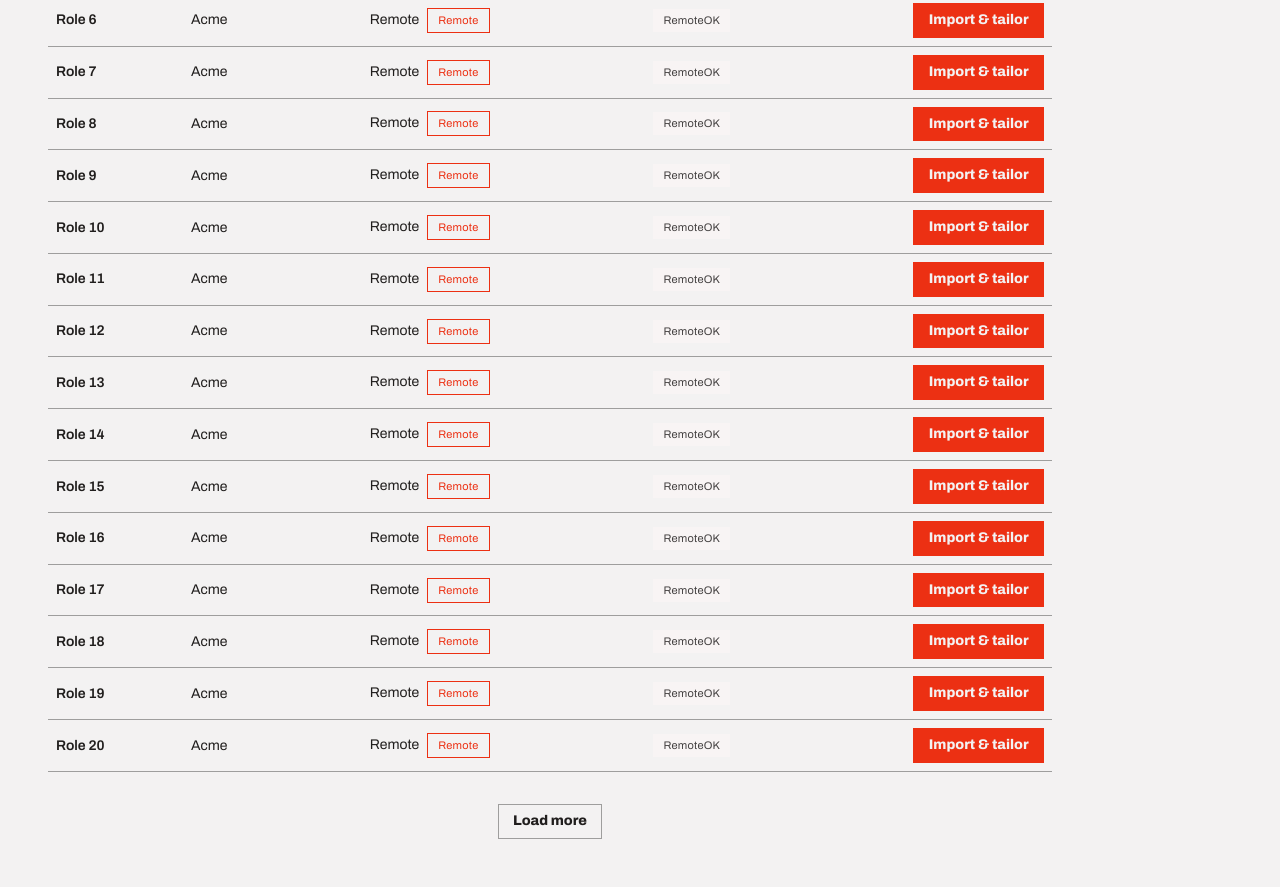
Test: JobFeedPage load more › explains the cap instead of offering a Load more that would 422
(page scrolled)
What coordinates should you click on to do the following:
click the button "Load more"
I would click on:
 (550, 821)
Its box is [498,804,602,839].
(page scrolled)
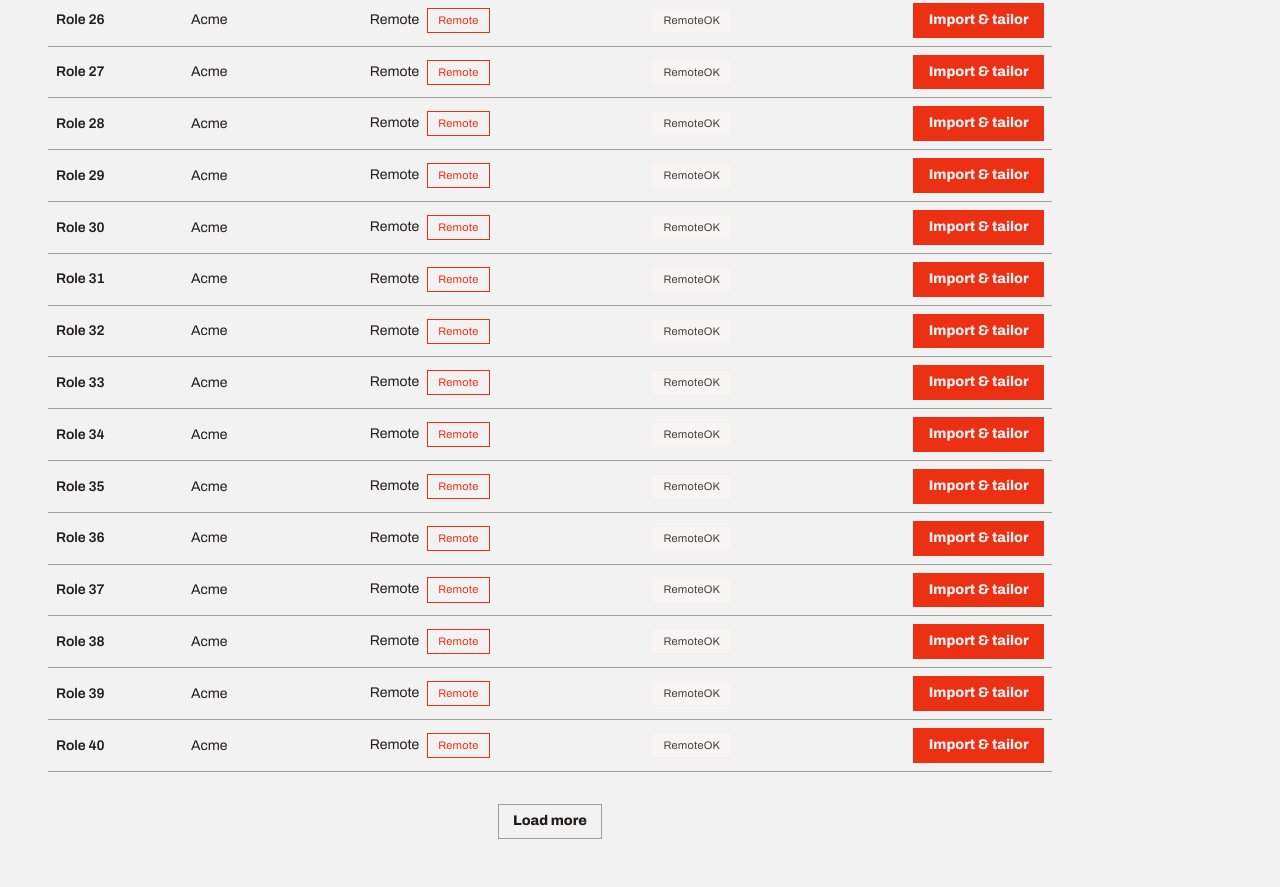
What coordinates should you click on to do the following:
click the button "Load more"
I would click on:
 (550, 821)
Its box is [498,804,602,839].
(page scrolled)
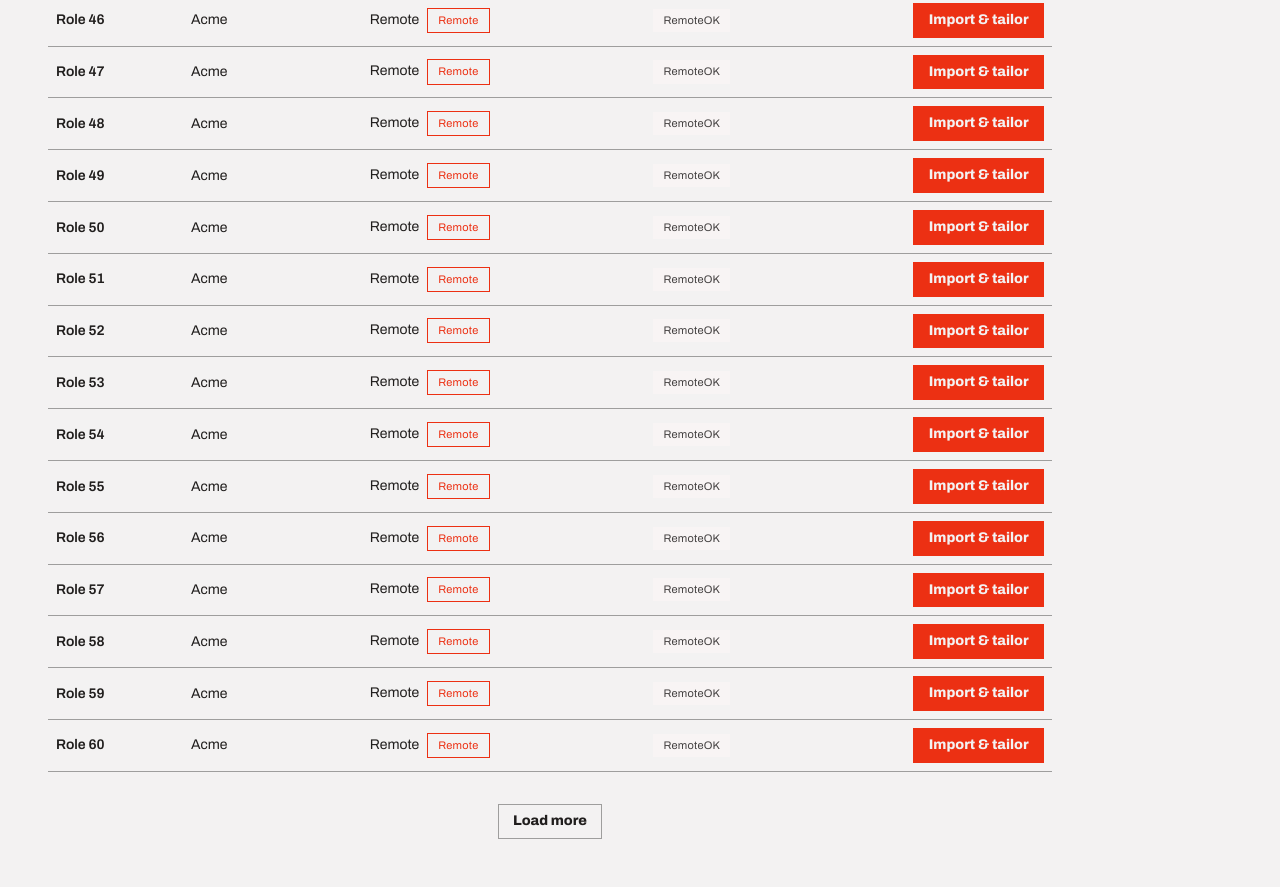
What coordinates should you click on to do the following:
click the button "Load more"
I would click on:
 (550, 821)
Its box is [498,804,602,838].
(page scrolled)
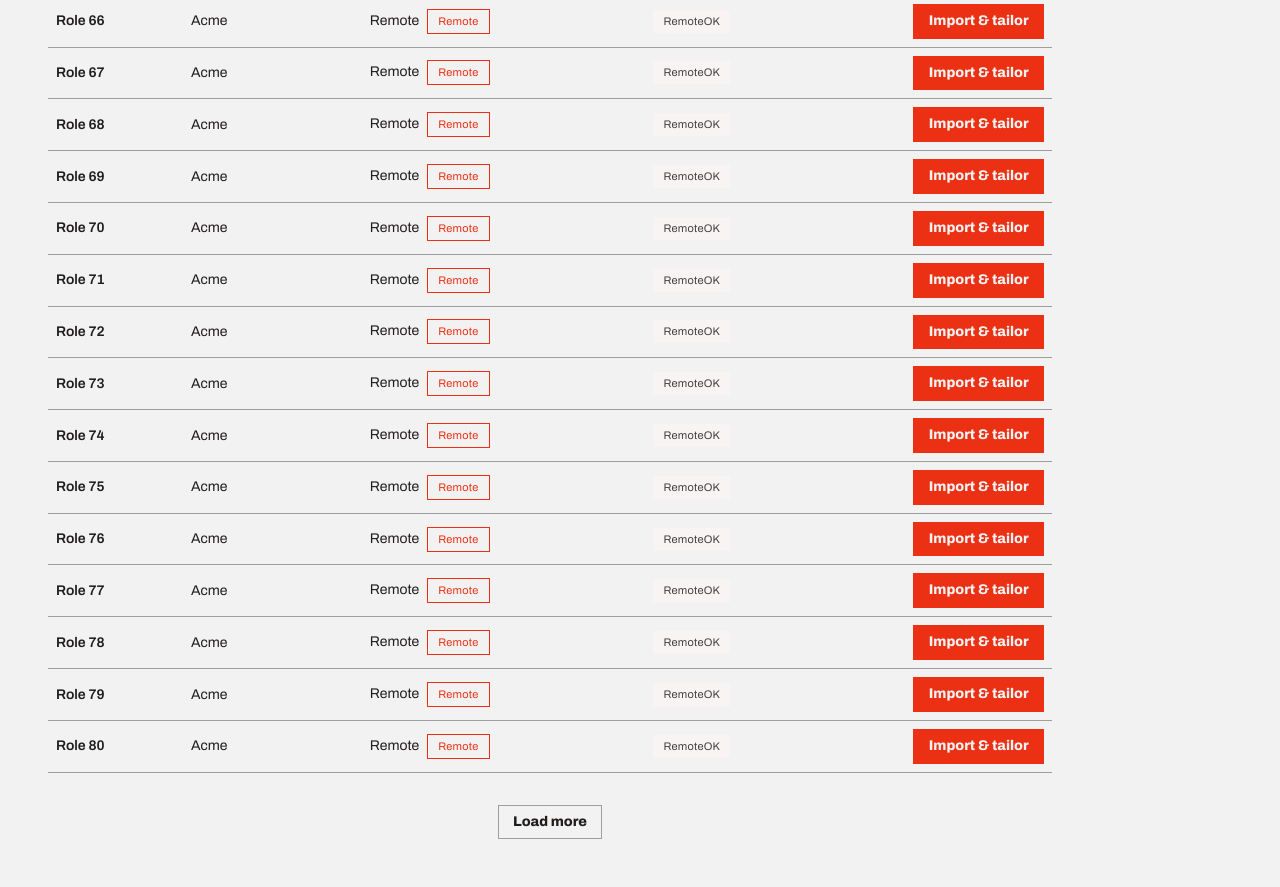
What coordinates should you click on to do the following:
click the button "Load more"
I would click on:
 (550, 822)
Its box is [498,805,602,840].
(page scrolled)
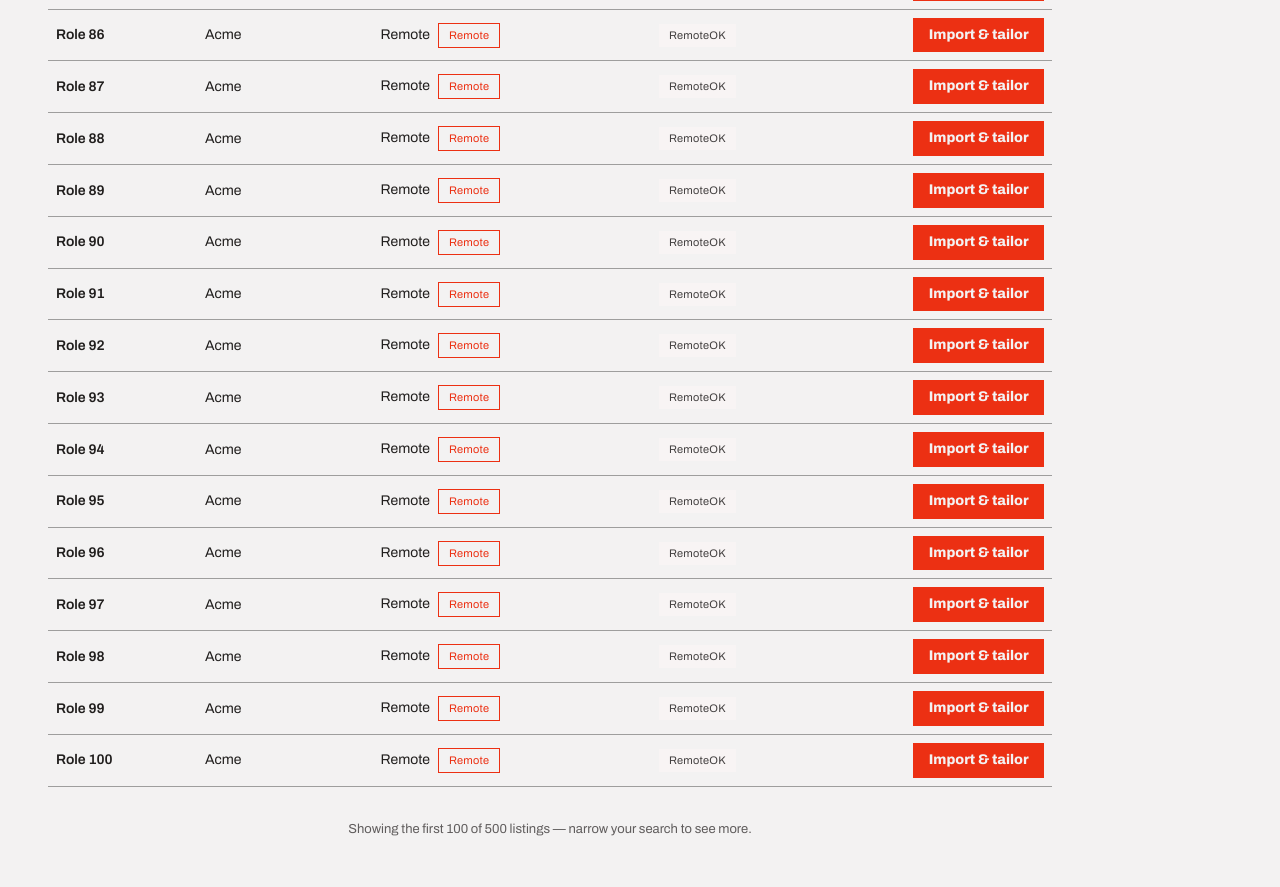
Expected: the button "Load more" is gone
Expected: the text "Showing the first 100 of 500 listings" is shown, [348,822,752,836]
